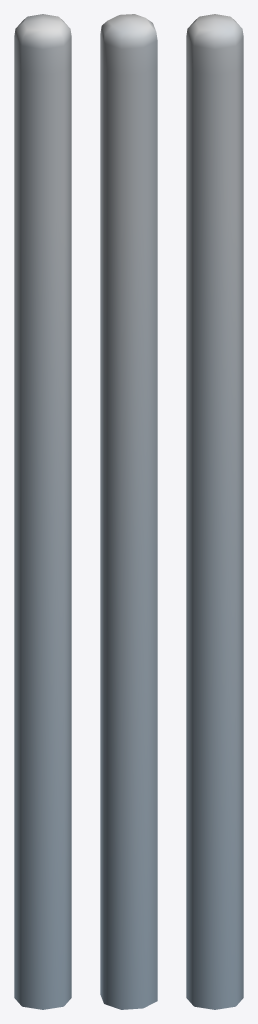
File: HazardSignPole.fbx
3 renders of one model, left to right at view 1: azimuth 90°, elevation 25°; view 2: azimuth 210°, elevation 25°; view 3: azimuth 270°, elevation 25°, orthographic.
Parts seen in each view (by area): view 1: HazardSignPost; view 2: HazardSignPost; view 3: HazardSignPost.
Boxes of the visible parts, <box> form: HazardSignPost: <box>14,14,71,1009</box>; HazardSignPost: <box>100,14,157,1009</box>; HazardSignPost: <box>186,14,243,1009</box>.
Size of the model in its own units: 9.2 by 173 by 9.2.
